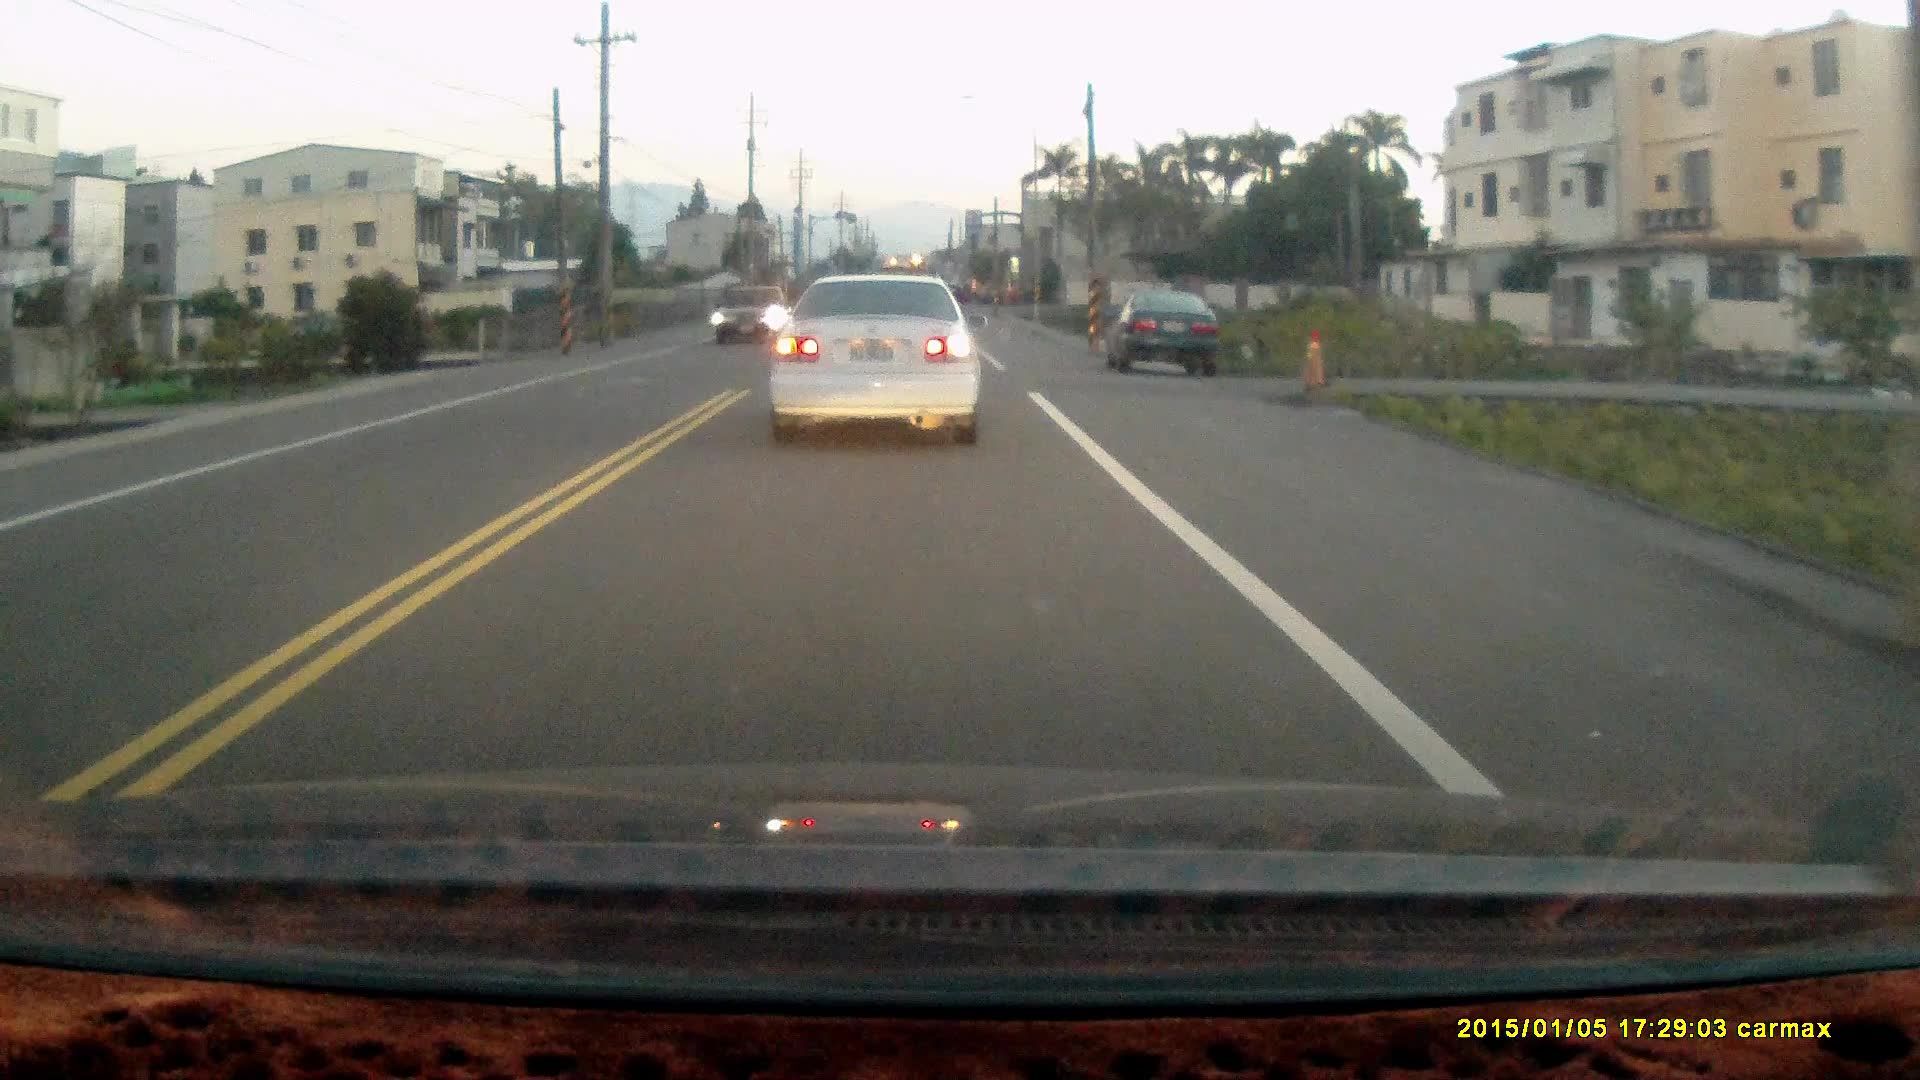vehicle: (767, 270, 984, 451), (1113, 290, 1226, 382), (712, 285, 790, 349)
